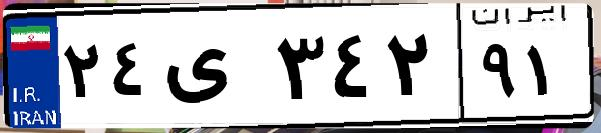1: (525, 38, 570, 115)
2: (385, 28, 445, 110), (57, 26, 110, 100)
3: (270, 28, 330, 110)
4: (330, 28, 385, 110), (110, 28, 158, 98)
9: (475, 38, 525, 113)
ی: (158, 20, 270, 120)
